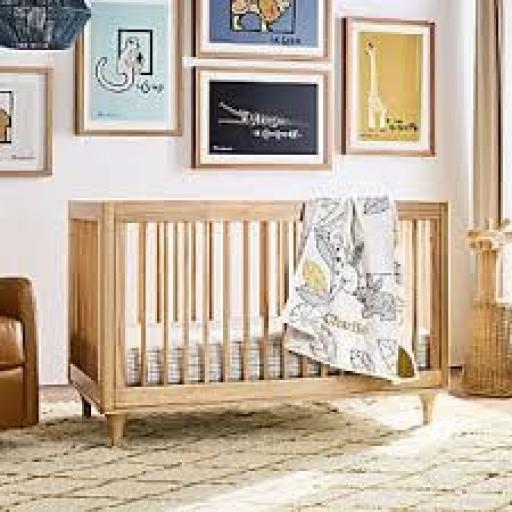crib: (68, 198, 449, 452)
